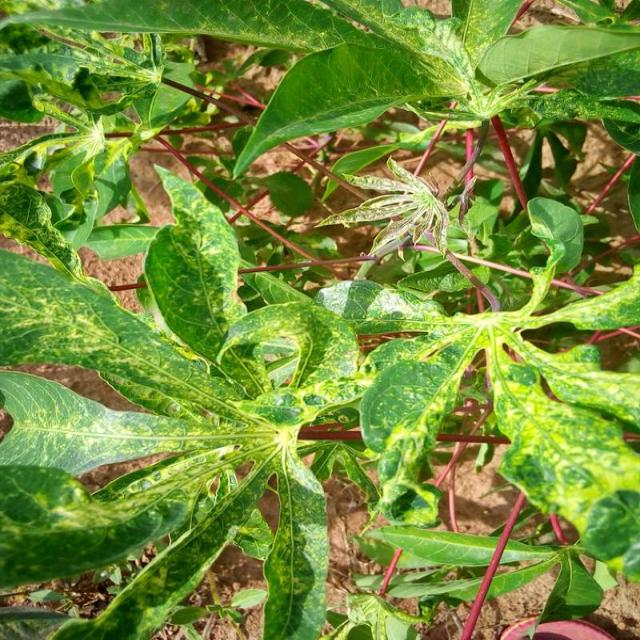cassava leaf: (2, 1, 640, 638), (142, 162, 245, 364)
